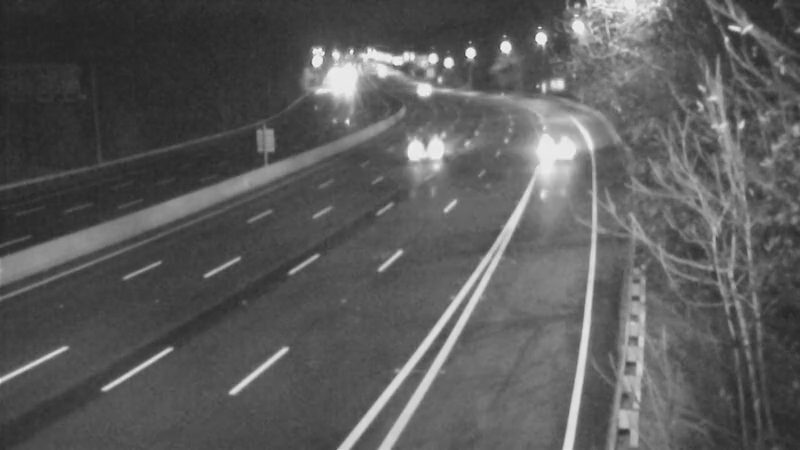vehicle: (396, 60, 446, 110), (526, 121, 576, 171), (403, 122, 453, 172)
